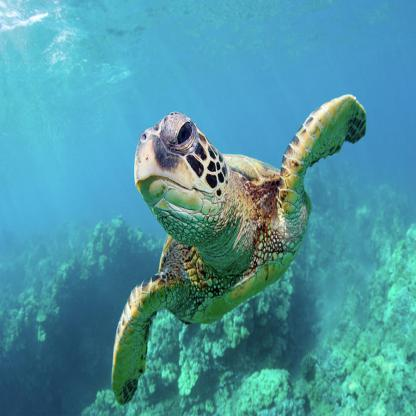turtle: (129, 102, 232, 246)
